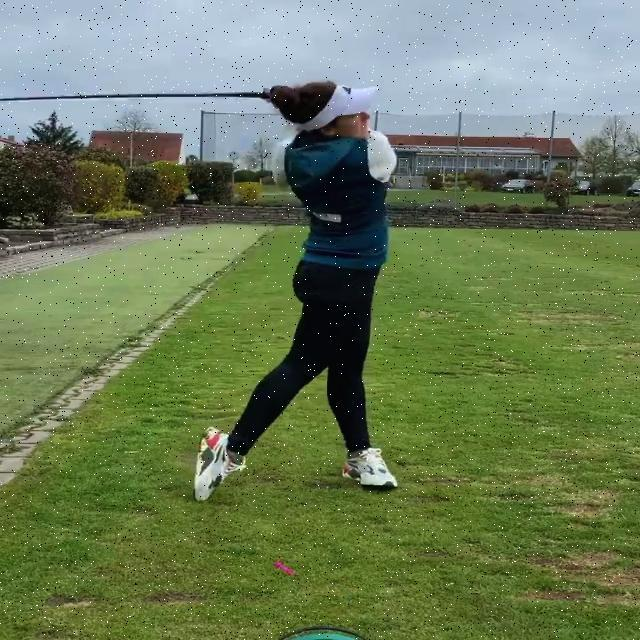golf club-handle: (0, 88, 280, 103)
